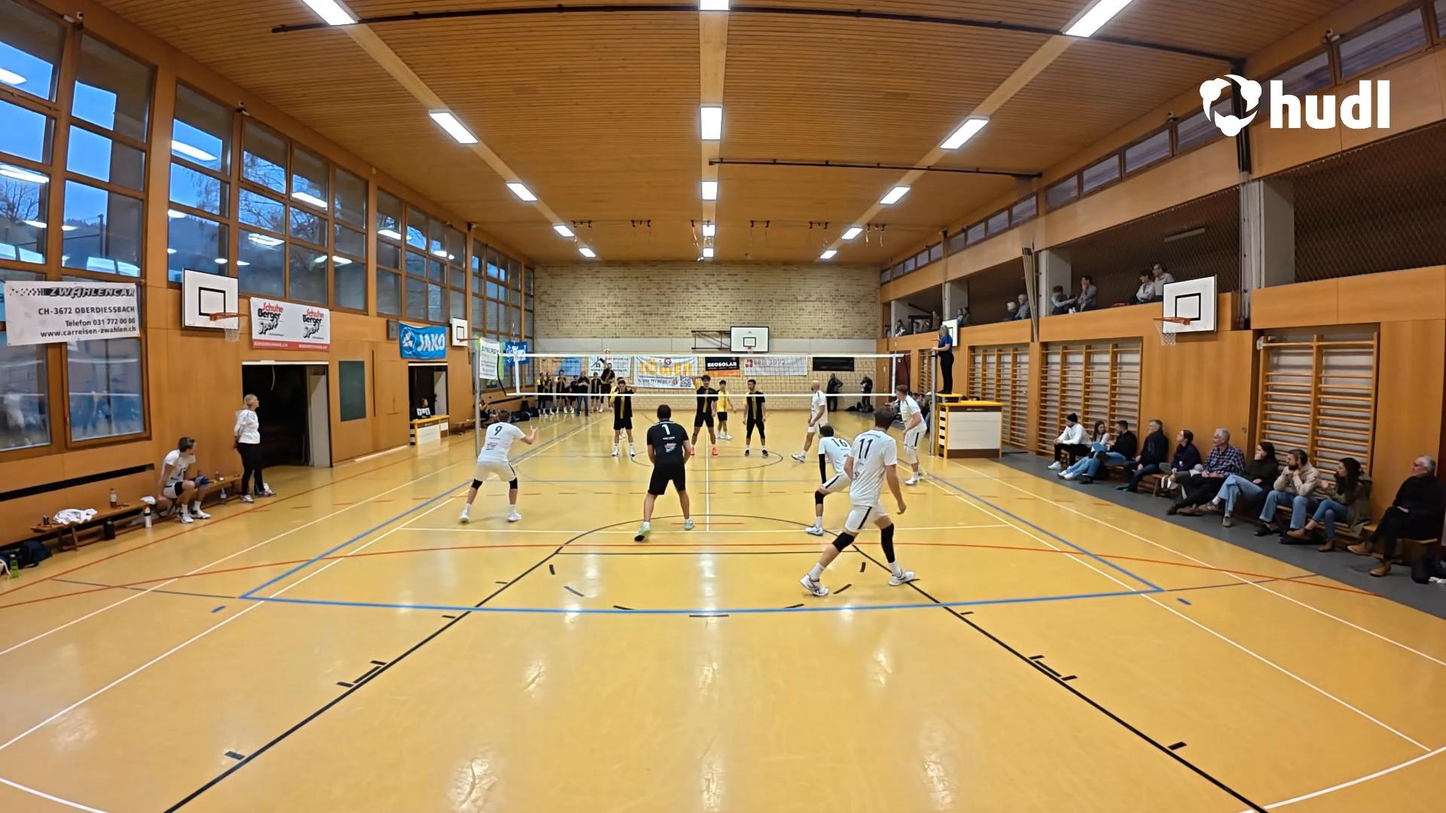battuta: (595, 349, 617, 413)
